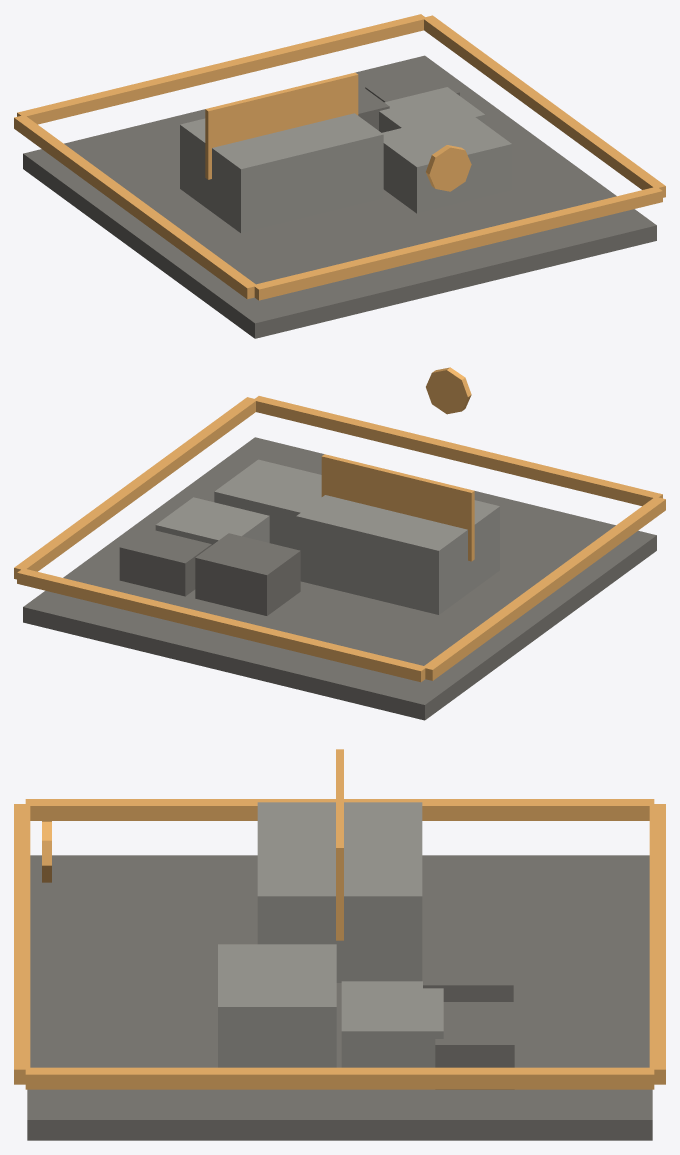
Rendered from t6_stonecutter.glb.
3 views of the same model, one above another, from view 1: azimuth 30°, elevation 25°; view 2: azimuth 150°, elevation 25°; view 3: azimuth 270°, elevation 25° (orthographic). The views are drawn at different scales.
Visible parts, largest first — view 1: FootprintBase, WorkBlock, InputStonePileA, TierFrontTrim, TierBackTrim, CutLine, TierLeftTrim, TierRightTrim, InputStonePileB, TierEmblem, OutputBlockB, OutputBlockA; view 2: FootprintBase, WorkBlock, TierBackTrim, TierFrontTrim, OutputBlockA, CutLine, TierLeftTrim, InputStonePileA, TierRightTrim, OutputBlockB, InputStonePileB, TierEmblem; view 3: FootprintBase, WorkBlock, InputStonePileA, TierRightTrim, TierLeftTrim, InputStonePileB, OutputBlockA, OutputBlockB, TierBackTrim, TierFrontTrim, CutLine, TierEmblem.
Boxes of the visible parts, bbox=[...] form: FootprintBase: bbox=[23, 55, 656, 338]; WorkBlock: bbox=[180, 113, 383, 233]; InputStonePileA: bbox=[382, 112, 511, 213]; TierFrontTrim: bbox=[253, 187, 662, 300]; TierBackTrim: bbox=[17, 14, 426, 124]; CutLine: bbox=[205, 72, 358, 179]; TierLeftTrim: bbox=[14, 116, 255, 299]; TierRightTrim: bbox=[424, 15, 665, 197]; InputStonePileB: bbox=[379, 87, 485, 132]; TierEmblem: bbox=[426, 145, 471, 191]; OutputBlockB: bbox=[365, 71, 459, 102]; OutputBlockA: bbox=[358, 84, 389, 130]; FootprintBase: bbox=[23, 437, 656, 720]; WorkBlock: bbox=[296, 495, 499, 614]; TierBackTrim: bbox=[17, 568, 426, 682]; TierFrontTrim: bbox=[253, 396, 662, 505]; OutputBlockA: bbox=[195, 533, 300, 615]; CutLine: bbox=[321, 454, 474, 561]; TierLeftTrim: bbox=[424, 496, 665, 680]; InputStonePileA: bbox=[214, 459, 321, 549]; TierRightTrim: bbox=[14, 397, 255, 579]; OutputBlockB: bbox=[119, 526, 211, 596]; InputStonePileB: bbox=[155, 497, 269, 545]; TierEmblem: bbox=[426, 367, 471, 414]; FootprintBase: bbox=[27, 855, 652, 1140]; WorkBlock: bbox=[257, 802, 422, 982]; InputStonePileA: bbox=[218, 944, 336, 1067]; TierRightTrim: bbox=[25, 1067, 654, 1089]; TierLeftTrim: bbox=[25, 799, 654, 820]; InputStonePileB: bbox=[341, 981, 443, 1067]; OutputBlockA: bbox=[423, 938, 513, 1001]; OutputBlockB: bbox=[435, 1002, 514, 1089]; TierBackTrim: bbox=[649, 804, 665, 1084]; TierFrontTrim: bbox=[14, 804, 30, 1084]; CutLine: bbox=[336, 749, 343, 940]; TierEmblem: bbox=[42, 821, 51, 882].
Size of the model in its own units: 3.96 by 1.25 by 3.96.
